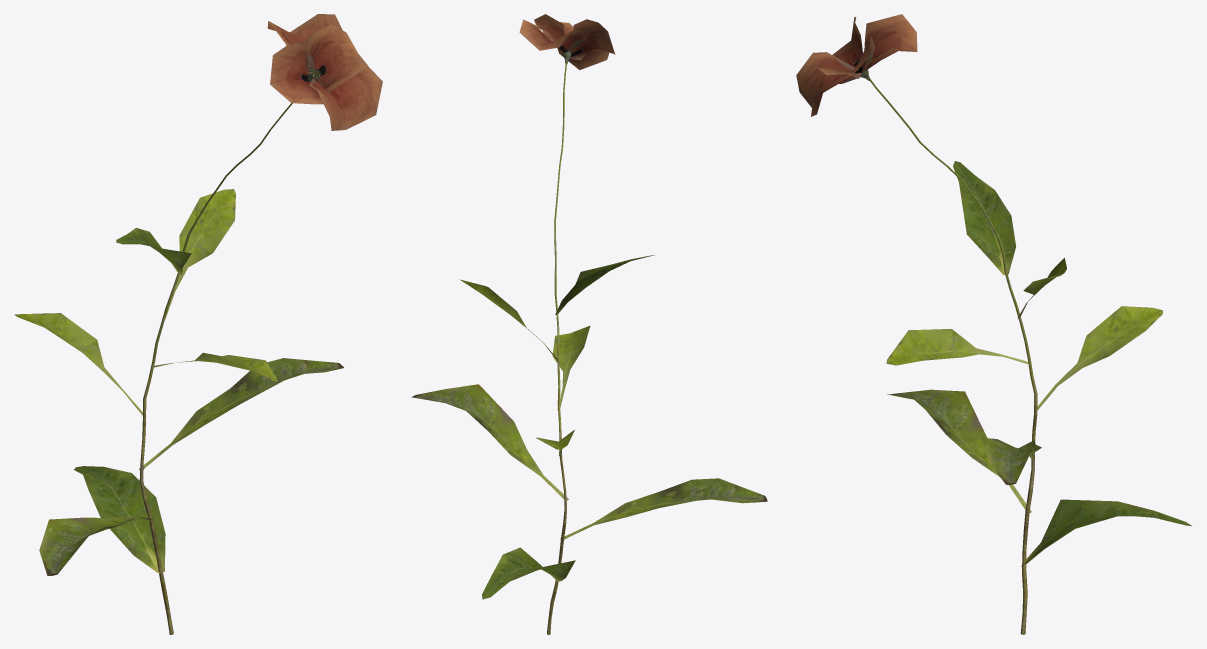
Rendered from Poppy_OG_normal_peach.glb.
The picture shows the model from 3 angles, left to right: view 1: azimuth 30°, elevation 25°; view 2: azimuth 150°, elevation 25°; view 3: azimuth 270°, elevation 25°; orthographic projection. The views are drawn at different scales.
Parts seen in each view (by area): view 1: xtall; view 2: xtall; view 3: xtall.
Part boxes in pixels (x1,y1,x2,y2): xtall: (14, 14, 382, 634); xtall: (411, 14, 767, 634); xtall: (796, 14, 1191, 634).
Size of the model in its own units: 1.75 by 3.06 by 1.73.
Materials: 1 (1 with a texture image).
